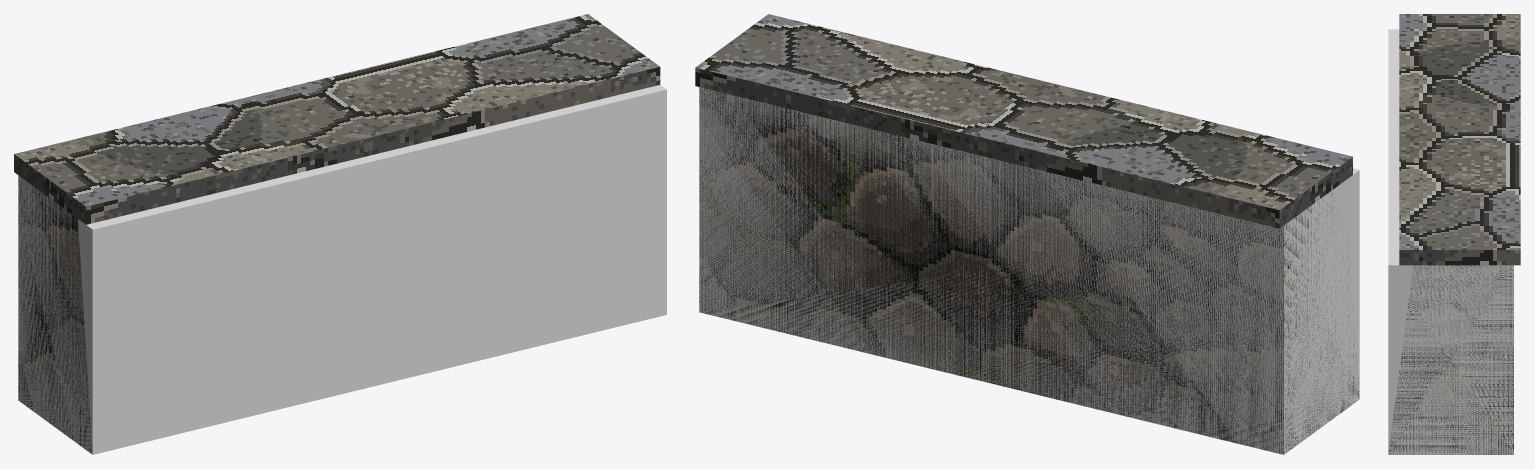
The model's file is JP_Wall_Retaining_Rough_4m.glb.
3 renders of one model, left to right at view 1: azimuth 30°, elevation 25°; view 2: azimuth 150°, elevation 25°; view 3: azimuth 270°, elevation 25°, orthographic. The views are drawn at different scales.
Visible parts, largest first — view 1: COL_JP_Wall_Retaining_Rough_4m, JP_Wall_Retaining_Rough_4m; view 2: JP_Wall_Retaining_Rough_4m, COL_JP_Wall_Retaining_Rough_4m; view 3: JP_Wall_Retaining_Rough_4m, COL_JP_Wall_Retaining_Rough_4m.
Part boxes in pixels (x1,y1,x2,y2): COL_JP_Wall_Retaining_Rough_4m: (18,85,666,454); JP_Wall_Retaining_Rough_4m: (14,14,660,453); JP_Wall_Retaining_Rough_4m: (695,14,1359,453); COL_JP_Wall_Retaining_Rough_4m: (699,87,1359,454); JP_Wall_Retaining_Rough_4m: (1388,14,1520,454); COL_JP_Wall_Retaining_Rough_4m: (1388,29,1513,454).
Size of the model in its own units: 4 by 1.62 by 0.95.
Materials: 2 (2 with a texture image).
